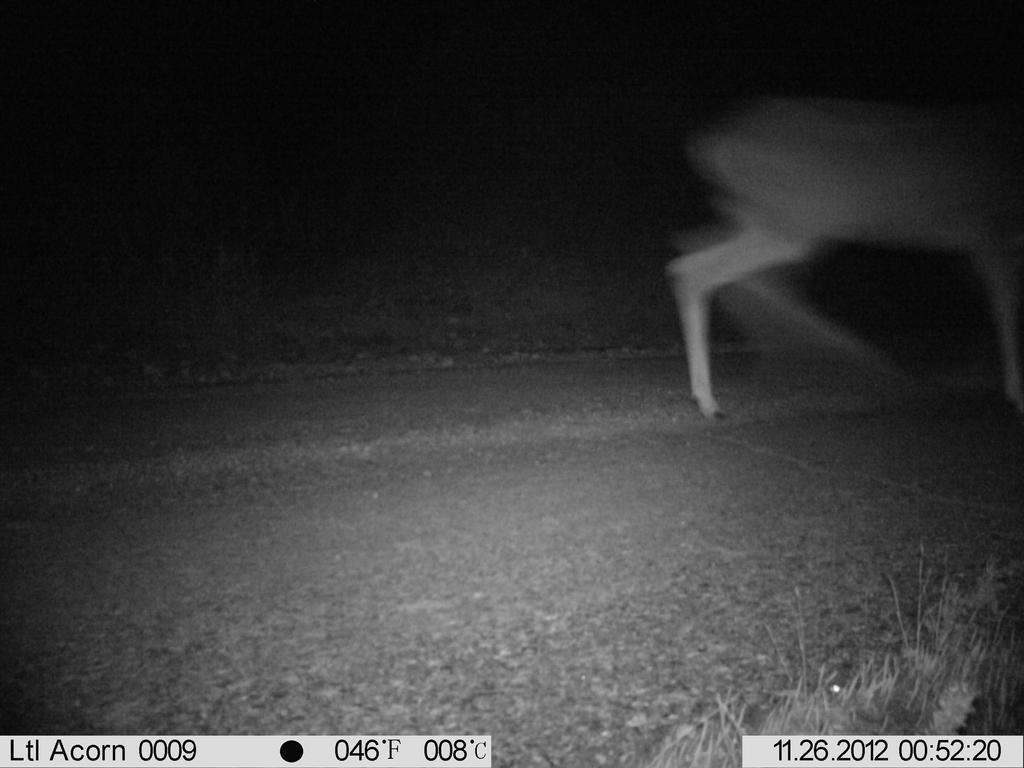deer: (609, 59, 995, 424)
